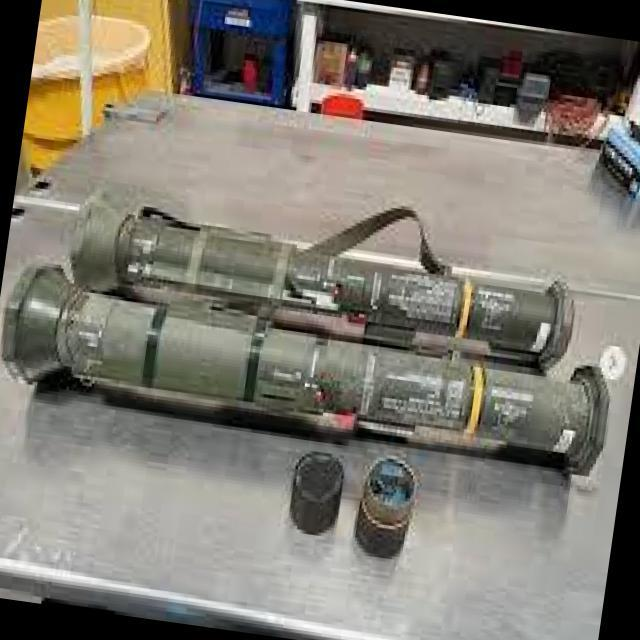rocket: (0, 190, 626, 465)
